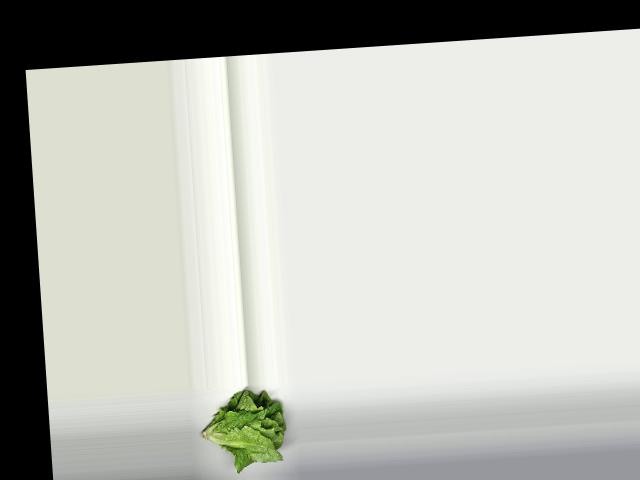lettuce: (195, 387, 293, 467)
